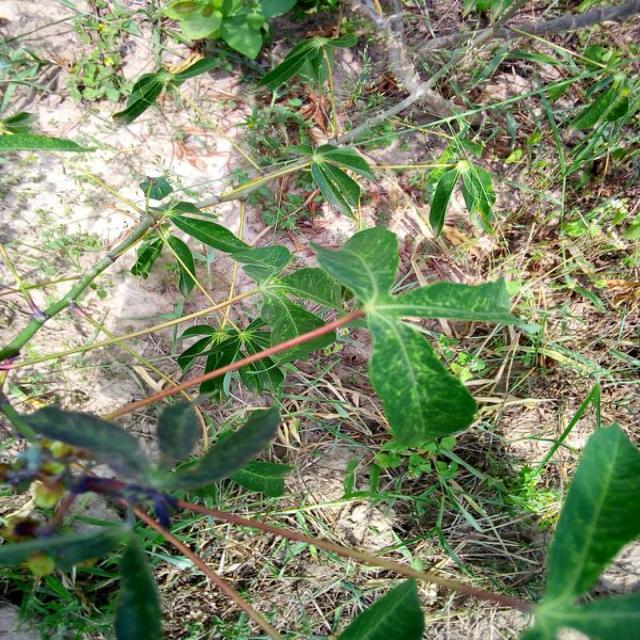cassava leaf: (307, 224, 541, 448), (544, 420, 640, 610), (338, 575, 427, 639)
